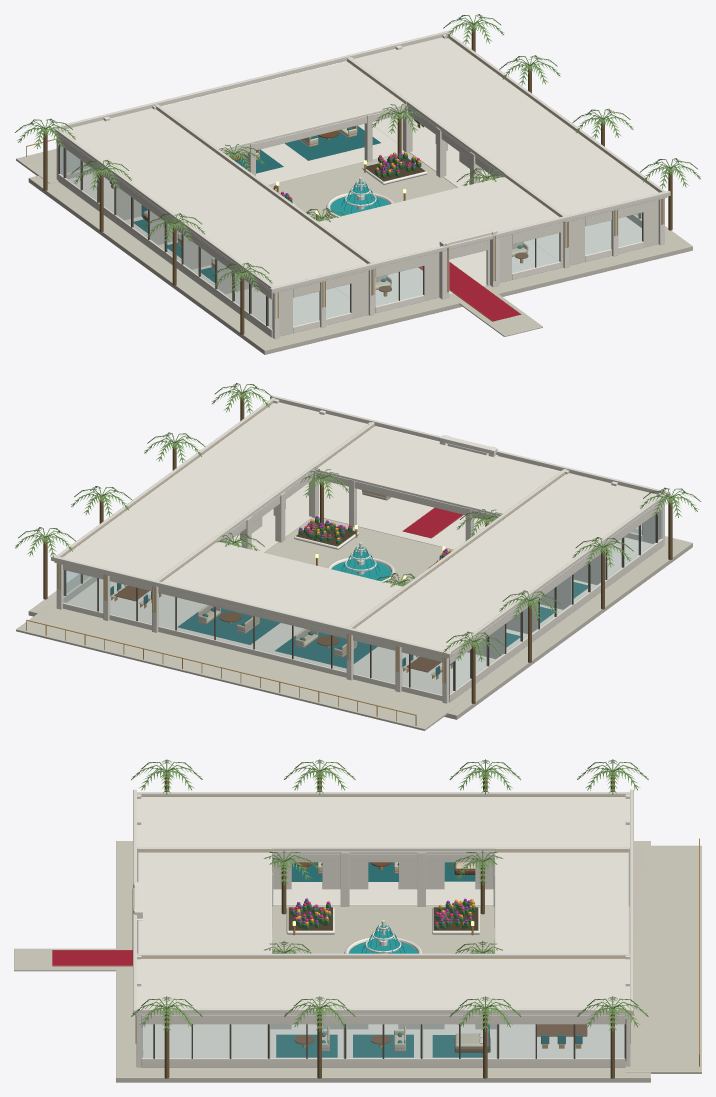
Rendered from SeasideMansion.glb.
3 views of the same model, one above another, from view 1: azimuth 30°, elevation 25°; view 2: azimuth 150°, elevation 25°; view 3: azimuth 270°, elevation 25° (orthographic). The views are drawn at different scales.
Visible parts, largest first — view 1: Flat roof slab, Flat roof slab.001, Flat roof slab.003, Continuous ground slab, Flat roof slab.002, Exterior glazed wall, Courtyard paving, Wing floor.001, Wing floor, Hall floor.001, Hall floor, Facade parapet (+26 smaller); view 2: Flat roof slab, Flat roof slab.001, Sea terrace, Panoramic ocean glass, Flat roof slab.002, Flat roof slab.003, Continuous ground slab, Exterior glazed wall, Wing floor.001, Courtyard paving, Hall floor, Wing floor (+19 smaller); view 3: Flat roof slab.001, Flat roof slab, Sea terrace, Exterior glazed wall.001, Flat roof slab.003, Flat roof slab.002, Continuous ground slab, Wing floor.001, Courtyard paving, Exterior plinth.001, Exterior head.001, Wing floor (+20 smaller).
Part boxes in pixels (box(x1,y1,x2,y2)): Flat roof slab: box(55, 108, 375, 293); Flat roof slab.001: box(353, 37, 667, 222); Flat roof slab.003: box(161, 61, 406, 151); Continuous ground slab: box(28, 175, 692, 354); Flat roof slab.002: box(319, 177, 559, 262); Exterior glazed wall: box(60, 146, 272, 328); Courtyard paving: box(268, 152, 457, 221); Wing floor.001: box(372, 114, 641, 260); Wing floor: box(68, 173, 349, 327); Hall floor.001: box(256, 124, 404, 184); Hall floor: box(335, 240, 557, 305); Facade parapet: box(270, 191, 670, 292); Flat roof slab: box(346, 473, 667, 658); Flat roof slab.001: box(54, 402, 367, 587); Sea terrace: box(16, 605, 458, 730); Panoramic ocean glass: box(64, 570, 441, 694); Flat roof slab.002: box(315, 426, 559, 516); Flat roof slab.003: box(162, 541, 402, 627); Continuous ground slab: box(28, 529, 692, 719); Exterior glazed wall: box(450, 510, 661, 693); Wing floor.001: box(67, 479, 348, 626); Courtyard paving: box(264, 517, 453, 586); Hall floor: box(318, 489, 490, 549); Wing floor: box(358, 537, 652, 694); Flat roof slab.001: box(135, 958, 631, 1015); Flat roof slab: box(137, 797, 629, 854); Sea terrace: box(625, 845, 701, 1073); Exterior glazed wall.001: box(142, 1024, 624, 1057); Flat roof slab.003: box(495, 852, 628, 953); Flat roof slab.002: box(138, 852, 271, 953); Continuous ground slab: box(116, 841, 650, 1082); Wing floor.001: box(143, 1024, 623, 1057); Courtyard paving: box(272, 905, 494, 953); Exterior plinth.001: box(141, 1057, 625, 1067); Exterior head.001: box(141, 1015, 625, 1024); Wing floor: box(273, 881, 493, 905).
Size of the model in its own units: 49.65 by 7.02 by 54.
